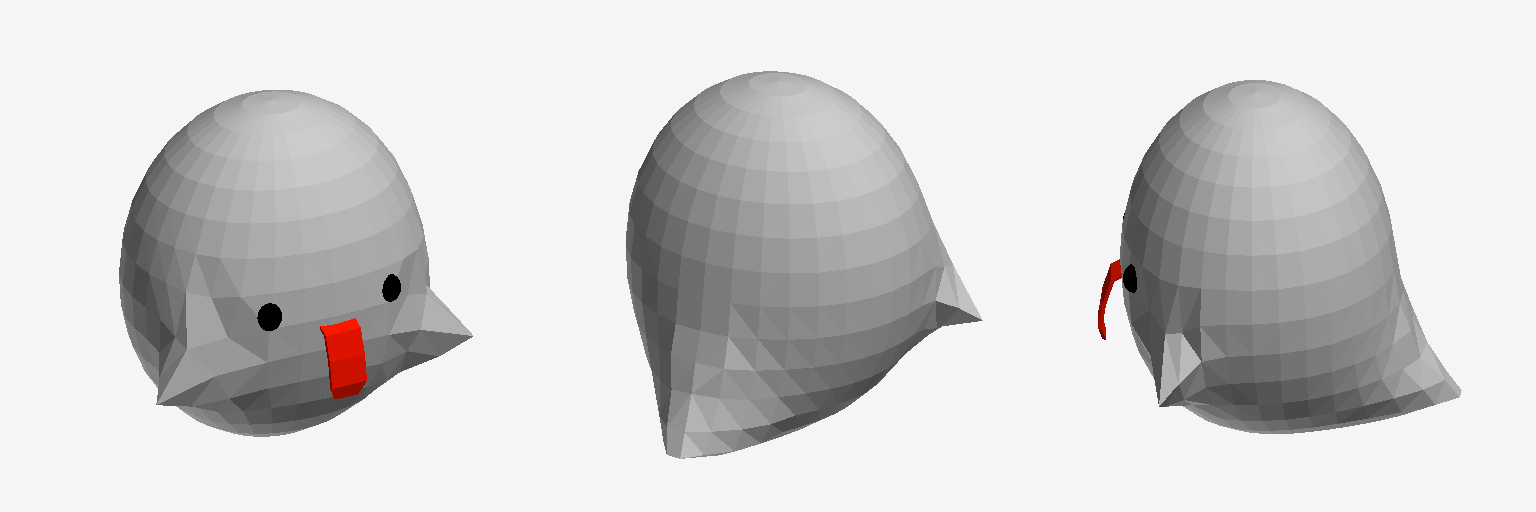
3 renders of one model, left to right at view 1: azimuth 30°, elevation 25°; view 2: azimuth 150°, elevation 25°; view 3: azimuth 270°, elevation 25°, orthographic.
Visible parts, largest first — view 1: Enemy.002, Enemy.001, Enemy; view 2: Enemy.002; view 3: Enemy.002, Enemy.001.
Boxes of the visible parts, box(x1,y1,x2,y2) form: Enemy.002: box(119, 90, 472, 436); Enemy.001: box(320, 318, 366, 398); Enemy: box(257, 303, 281, 330); Enemy.002: box(626, 71, 982, 458); Enemy.002: box(1120, 80, 1461, 433); Enemy.001: box(1098, 259, 1121, 339).
Size of the model in its own units: 1 by 1 by 1.
Materials: 4 (2 with a texture image).